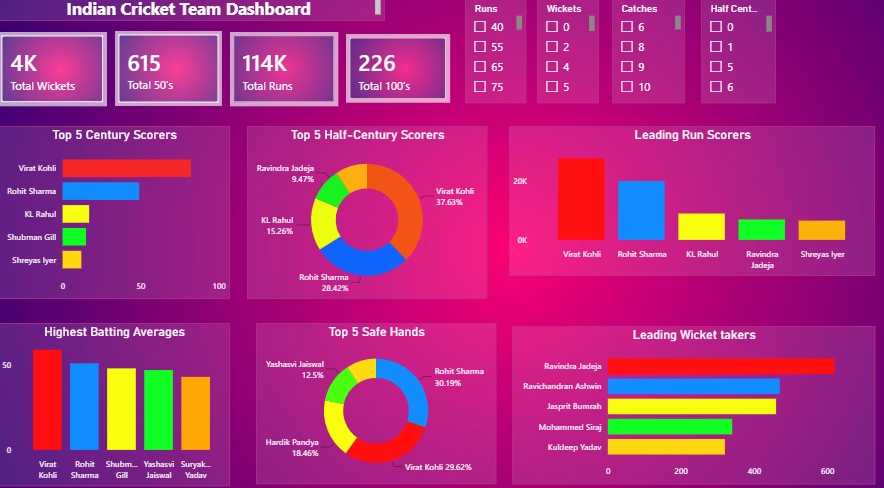

The page's visual inventory and layout, read from the dashboard file:
{"tool":"powerbi","page":{"name":"Page 1","canvas":[1280,720],"ordinal":0},"visuals":[{"type":"textbox","box":[0,0,557.3,40.3],"z":0},{"type":"clusteredColumnChart","title":"Leading Run Scorers","fields":{"Category":["Economy.Player Name"],"Y":["Sum(Economy.Runs)"]},"box":[735.8,191.5,527,216],"z":1000},{"type":"barChart","title":"Leading Wicket takers ","fields":{"Category":["Economy.Player Name"],"Y":["Sum(Economy.Wickets)"]},"box":[740.2,479.5,522.7,227.5],"z":2000},{"type":"donutChart","title":"Top 5 Safe Hands","fields":{"Category":["Economy.Player Name"],"Y":["Sum(Economy.Catches)"]},"box":[371.5,475.2,345.6,231.8],"z":3000},{"type":"donutChart","title":"Top 5 Half-Century Scorers","fields":{"Category":["Economy.Player Name"],"Y":["Sum(Economy.Half Centuries)"]},"box":[358.6,191.5,345.6,249.1],"z":4000},{"type":"cardVisual","fields":{"Data":["Sum(Economy.Wickets)"]},"box":[0,56.2,157,106.6],"z":5000},{"type":"cardVisual","fields":{"Data":["Sum(Economy.Half Centuries)"]},"box":[168.5,54.7,154.1,108],"z":6000},{"type":"cardVisual","fields":{"Data":["Sum(Economy.Runs)"]},"box":[334.1,56.2,155.5,106.6],"z":7000},{"type":"cardVisual","fields":{"Data":["Sum(Economy.Hundreds)"]},"box":[501.1,59,149.8,99.4],"z":8000},{"type":"clusteredBarChart","title":"Top 5 Century Scorers","fields":{"Category":["Economy.Player Name"],"Y":["Sum(Economy.Hundreds)"]},"box":[0,191.5,334.1,249.1],"z":9000},{"type":"columnChart","title":"Highest Batting Averages","fields":{"Category":["Economy.Player Name"],"Y":["Sum(Economy.Batting Avg)"]},"box":[0,475.2,334.1,234.7],"z":10000},{"type":"slicer","fields":{"Values":["Economy.Runs"]},"box":[672.5,8.6,87.8,149.8],"z":11000},{"type":"slicer","fields":{"Values":["Economy.Wickets"]},"box":[776.2,8.6,89.3,149.8],"z":12000},{"type":"slicer","fields":{"Values":["Economy.Catches"]},"box":[884.2,8.6,105.1,149.8],"z":13000},{"type":"slicer","fields":{"Values":["Economy.Half Centuries"]},"box":[1012.3,8.6,108,149.8],"z":14000}]}

Visuals, with their boxes in screenshot pixels (x1, y1, x2, y2), scaled from the page's 1280x720 canvas onto the 884x488 screenshot:
textbox: Rect(0, 0, 385, 27)
"Leading Run Scorers" clusteredColumnChart: Rect(508, 130, 872, 276)
"Leading Wicket takers " barChart: Rect(511, 325, 872, 479)
"Top 5 Safe Hands" donutChart: Rect(257, 322, 495, 479)
"Top 5 Half-Century Scorers" donutChart: Rect(248, 130, 486, 299)
cardVisual - Sum(Economy.Wickets): Rect(0, 38, 108, 110)
cardVisual - Sum(Economy.Half Centuries): Rect(116, 37, 223, 110)
cardVisual - Sum(Economy.Runs): Rect(231, 38, 338, 110)
cardVisual - Sum(Economy.Hundreds): Rect(346, 40, 450, 107)
"Top 5 Century Scorers" clusteredBarChart: Rect(0, 130, 231, 299)
"Highest Batting Averages" columnChart: Rect(0, 322, 231, 481)
slicer - Economy.Runs: Rect(464, 6, 525, 107)
slicer - Economy.Wickets: Rect(536, 6, 598, 107)
slicer - Economy.Catches: Rect(611, 6, 683, 107)
slicer - Economy.Half Centuries: Rect(699, 6, 774, 107)
